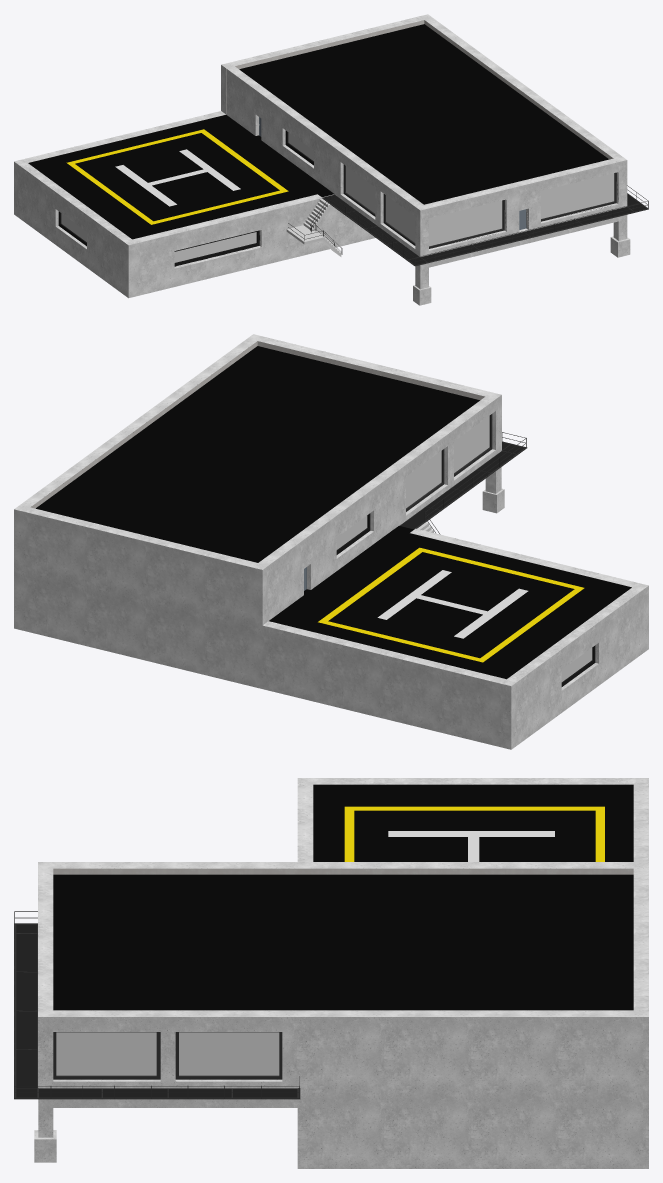
File: military-hq.zfix-v14.lod0.glb
3 views of the same model, one above another, from view 1: azimuth 30°, elevation 25°; view 2: azimuth 150°, elevation 25°; view 3: azimuth 270°, elevation 25° (orthographic). The views are drawn at different scales.
Visible parts, largest first — view 1: Walls_Floor_2_0, Walls_Outer_Walls_0, Railing_Railing_0, Walls_Inner_walls_0; view 2: Walls_Floor_2_0, Walls_Outer_Walls_0, Walls_Inner_walls_0, Railing_Railing_0; view 3: Walls_Floor_2_0, Walls_Outer_Walls_0, Railing_Railing_0, Walls_Inner_walls_0.
Boxes of the visible parts, x1=… form: Walls_Floor_2_0: x1=28, y1=24, x2=646, y2=266; Walls_Outer_Walls_0: x1=14, y1=14, x2=630, y2=305; Railing_Railing_0: x1=288, y1=164, x2=648, y2=266; Walls_Inner_walls_0: x1=50, y1=20, x2=613, y2=266; Walls_Floor_2_0: x1=36, y1=346, x2=631, y2=686; Walls_Outer_Walls_0: x1=14, y1=334, x2=648, y2=749; Walls_Inner_walls_0: x1=30, y1=341, x2=631, y2=587; Railing_Railing_0: x1=399, y1=414, x2=527, y2=534; Walls_Floor_2_0: x1=16, y1=784, x2=633, y2=1097; Walls_Outer_Walls_0: x1=34, y1=778, x2=648, y2=1168; Railing_Railing_0: x1=14, y1=911, x2=300, y2=1099; Walls_Inner_walls_0: x1=53, y1=868, x2=633, y2=874.
Bounding box in the file's own units: 40.21 × 8.91 × 33.7.
6 materials, 4 textured.
